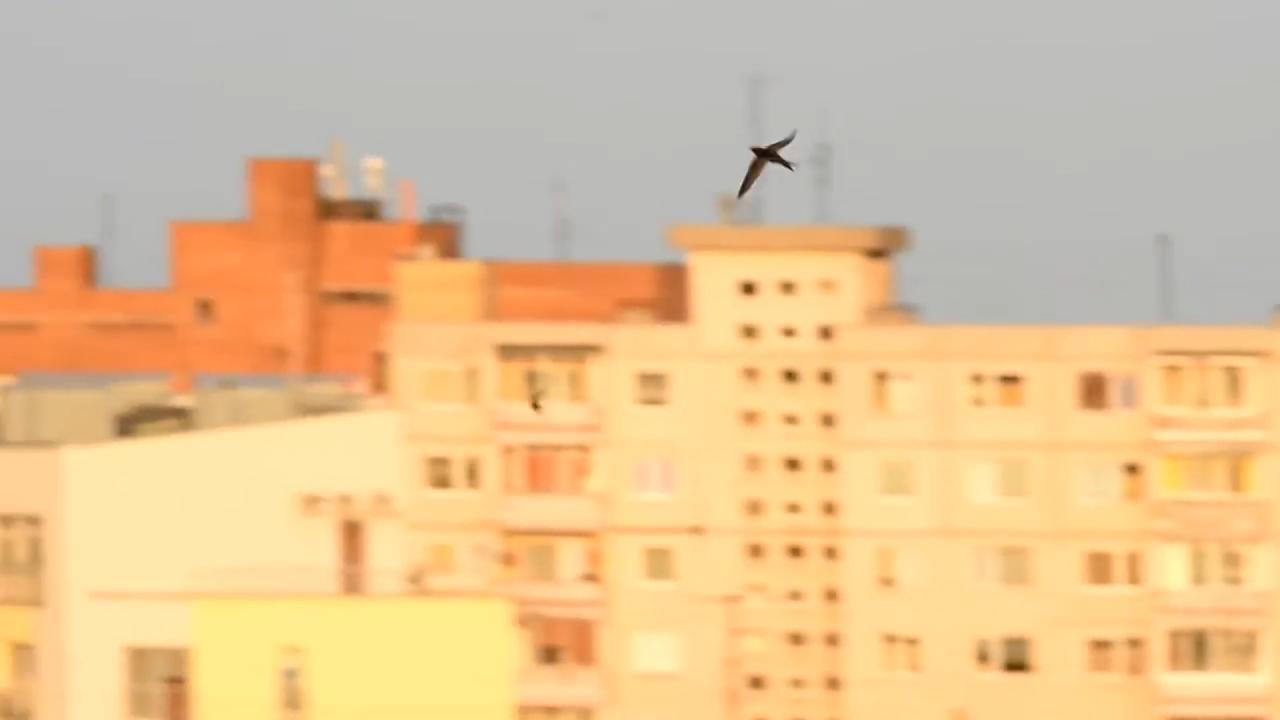Bird: (709, 118, 824, 209)
